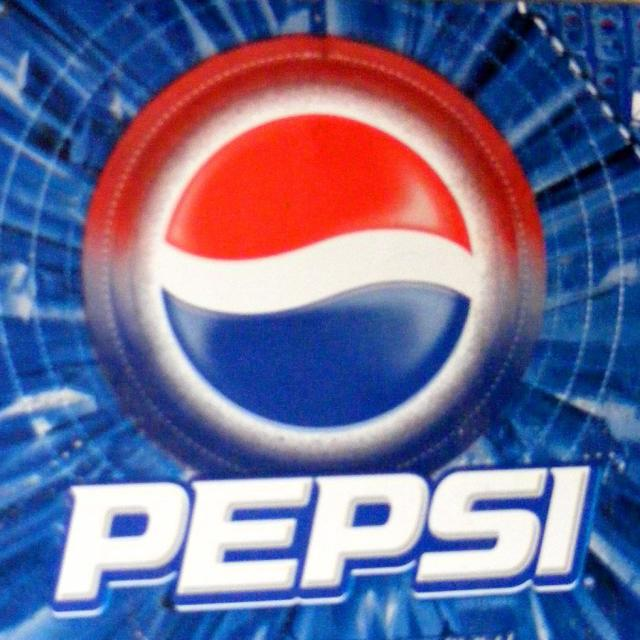pepsi: (78, 42, 548, 482)
